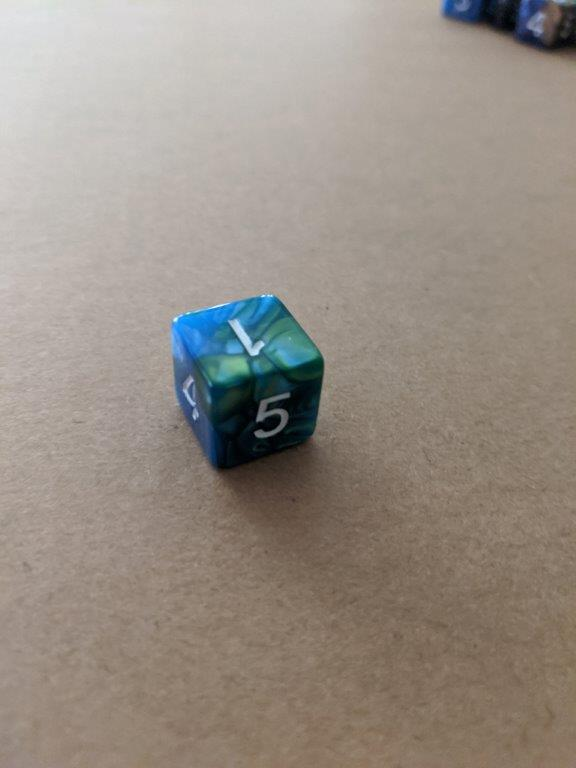d6-1: (171, 291, 325, 473)
